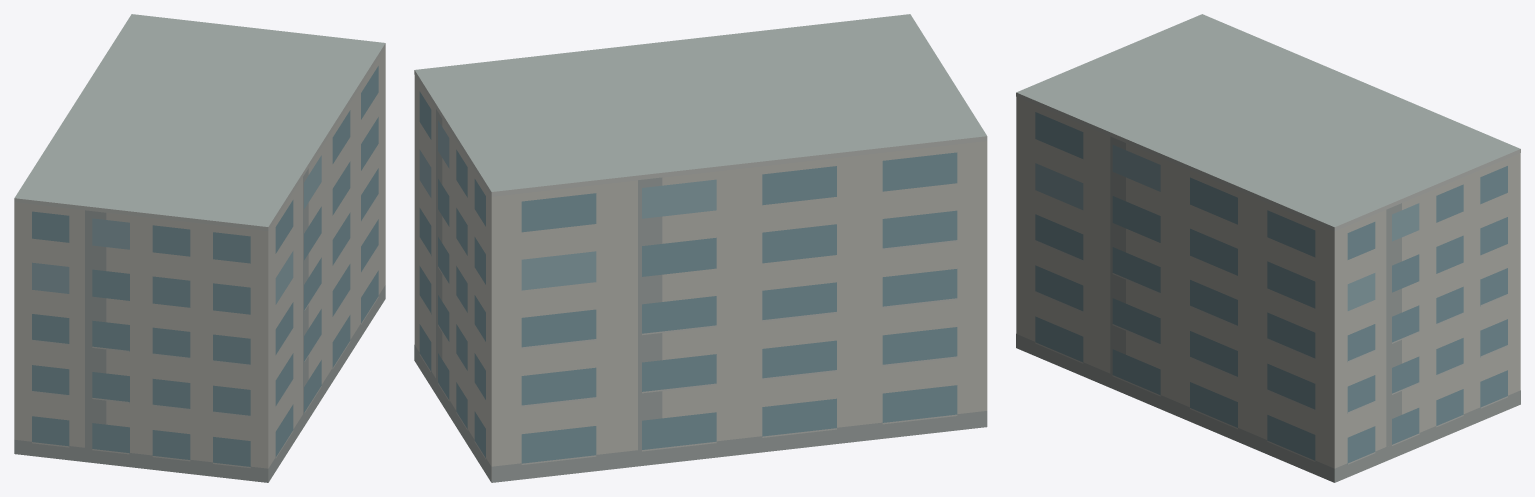
Rendered from residential-1abcb7e5-f426-4777-9eb7-2d8d6e546894.glb.
3 views of the same model, side by side, from view 1: azimuth 30°, elevation 25°; view 2: azimuth 150°, elevation 25°; view 3: azimuth 270°, elevation 25° (orthographic). The views are drawn at different scales.
Parts seen in each view (by area): view 1: residential-1abcb7e5-f426-4777-9eb7-2d8d6e546894.tmp; view 2: residential-1abcb7e5-f426-4777-9eb7-2d8d6e546894.tmp; view 3: residential-1abcb7e5-f426-4777-9eb7-2d8d6e546894.tmp.
Boxes of the visible parts, bbox=[...] form: residential-1abcb7e5-f426-4777-9eb7-2d8d6e546894.tmp: bbox=[14, 14, 385, 482]; residential-1abcb7e5-f426-4777-9eb7-2d8d6e546894.tmp: bbox=[414, 14, 987, 482]; residential-1abcb7e5-f426-4777-9eb7-2d8d6e546894.tmp: bbox=[1016, 14, 1520, 482].
Bounding box in the file's own units: 27.3 × 15.25 × 27.29.
